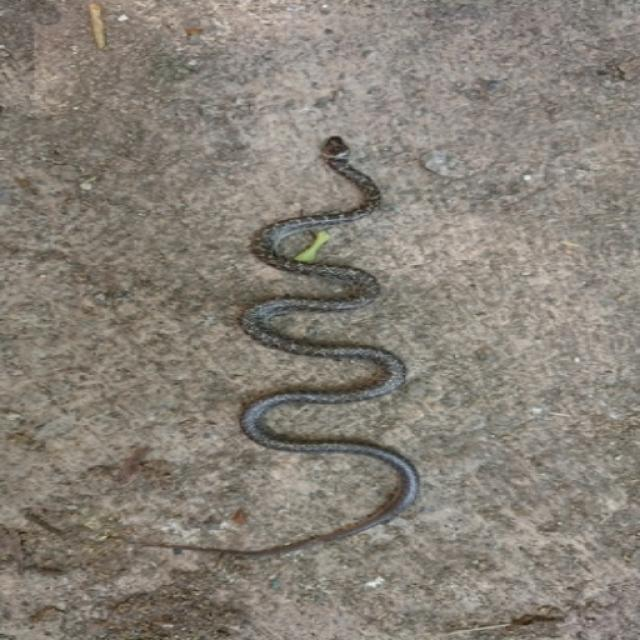snake: (185, 100, 496, 545)
